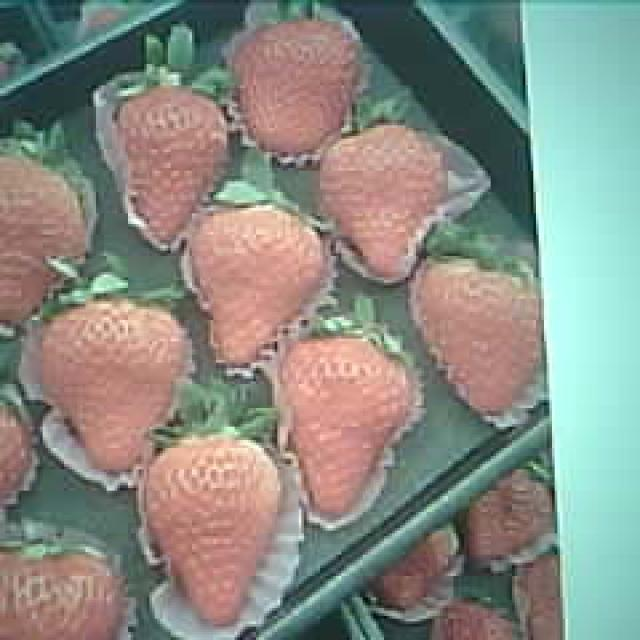strawberry: (148, 435, 284, 626), (48, 300, 186, 476), (285, 336, 413, 512), (198, 207, 325, 364), (424, 251, 540, 416), (321, 126, 447, 276), (117, 82, 228, 242), (239, 15, 362, 158)
